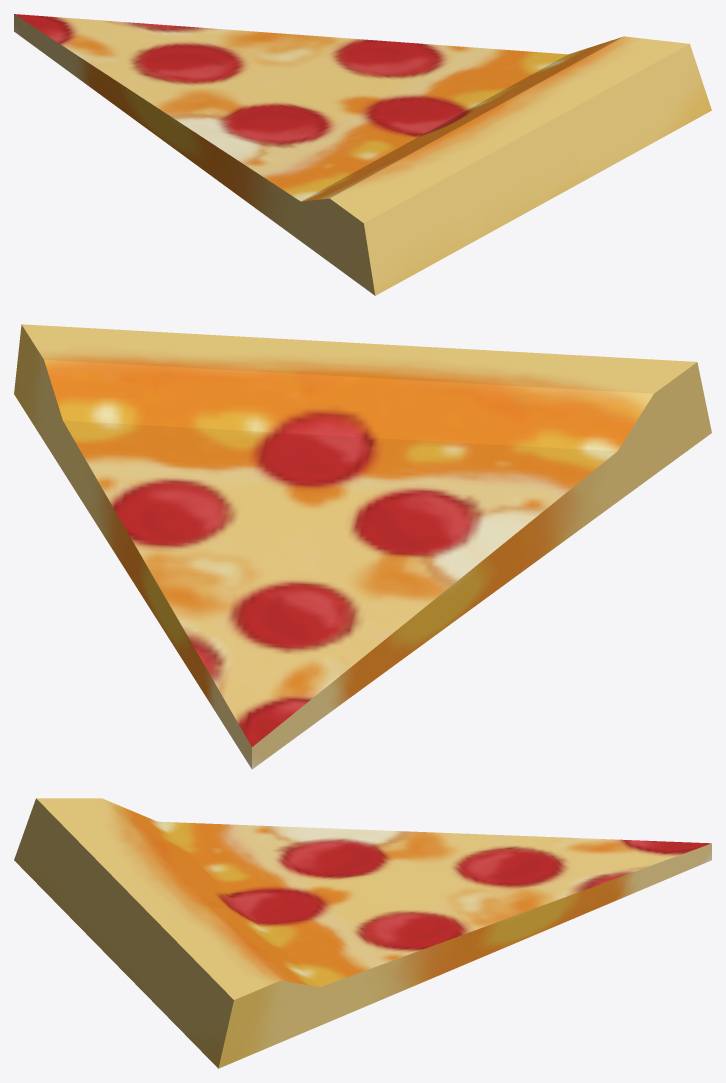
The model's file is Pizza.glb.
The picture shows the model from 3 angles, top to bottom: view 1: azimuth 30°, elevation 25°; view 2: azimuth 150°, elevation 25°; view 3: azimuth 270°, elevation 25°; orthographic projection. The views are drawn at different scales.
Visible parts, largest first — view 1: Pizza; view 2: Pizza; view 3: Pizza.
Boxes of the visible parts, <box> form: Pizza: <box>14,14,711,295</box>; Pizza: <box>14,324,711,769</box>; Pizza: <box>14,798,711,1068</box>.
Bounding box in the file's own units: 0.7071 × 0.098 × 1.
Materials: 1 (1 with a texture image).
